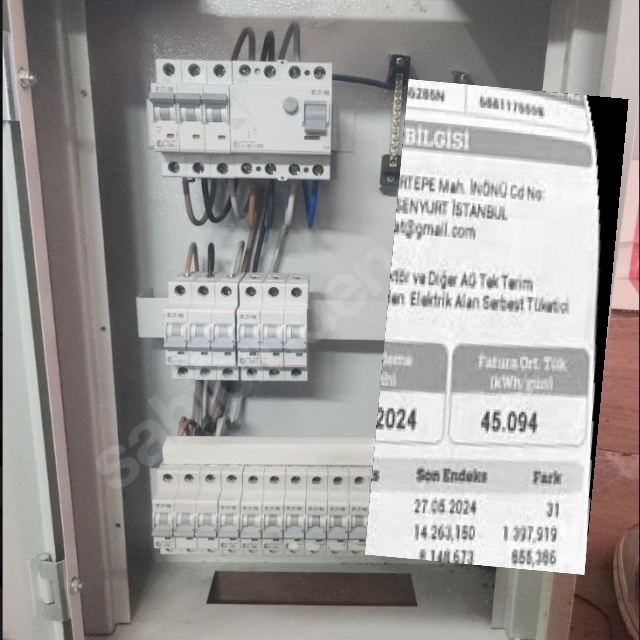electricity-bill: (364, 78, 628, 574)
